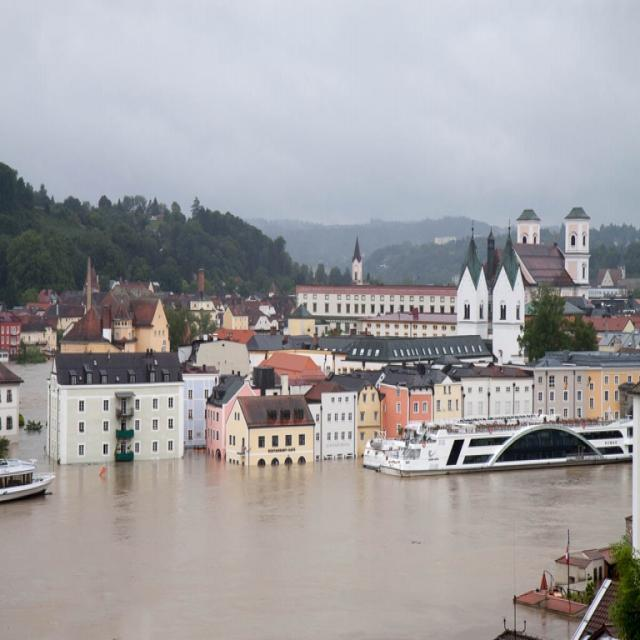flood: (0, 452, 632, 640), (11, 364, 50, 420), (13, 432, 47, 470)
house: (55, 349, 196, 471), (294, 282, 459, 334), (210, 382, 305, 468), (456, 225, 526, 324), (376, 372, 454, 432), (262, 348, 340, 406), (577, 354, 640, 424), (457, 361, 531, 419), (350, 336, 496, 364), (311, 382, 362, 460), (534, 359, 576, 422), (194, 338, 248, 380), (132, 299, 172, 352), (554, 554, 606, 588), (0, 363, 22, 436), (514, 207, 542, 248), (0, 312, 22, 354), (110, 282, 154, 301), (110, 304, 132, 342), (597, 318, 640, 336), (222, 303, 250, 330), (56, 303, 86, 328), (20, 324, 50, 345), (248, 334, 283, 351), (596, 266, 622, 288), (250, 312, 270, 331), (189, 300, 217, 313), (258, 300, 277, 319)
